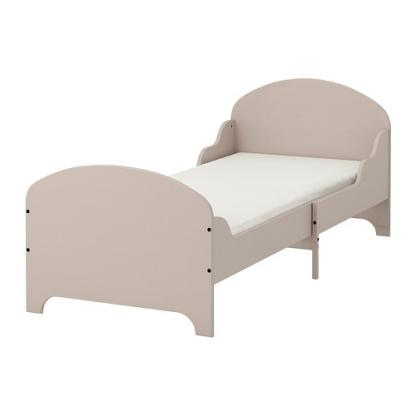Bed: (22, 74, 394, 338)
